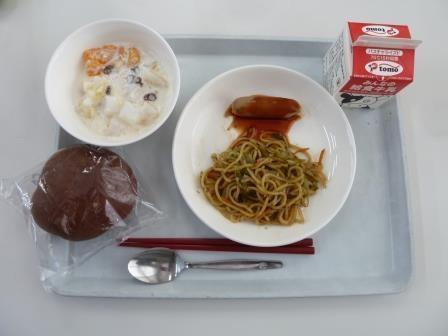Bread: (17, 136, 130, 244)
Fried noodles: (202, 130, 327, 236)
Milk: (320, 22, 429, 115)
salad with sauce: (42, 25, 177, 143)
sausages: (228, 80, 299, 130)
